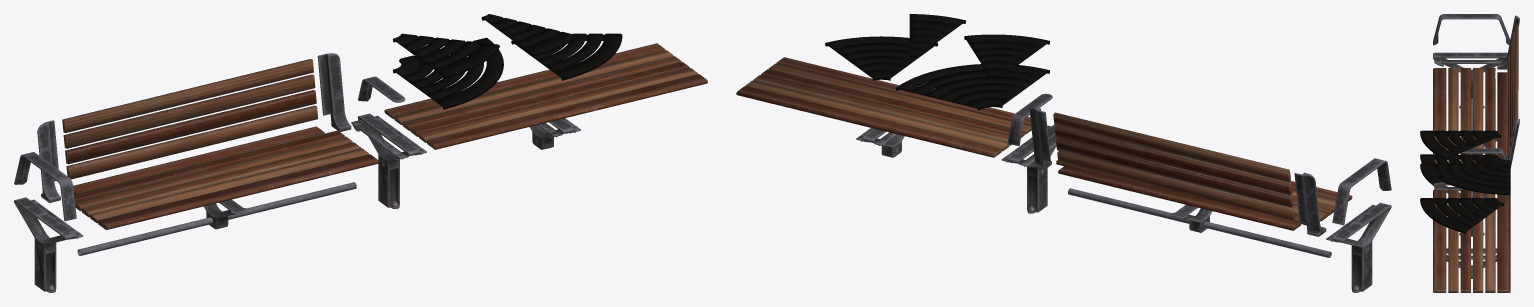
File: modular_street_seating_joined.glb
The picture shows the model from 3 angles, left to right: view 1: azimuth 30°, elevation 25°; view 2: azimuth 150°, elevation 25°; view 3: azimuth 270°, elevation 25°; orthographic projection. The views are drawn at different scales.
Visible parts, largest first — view 1: ConsolidatedMesh; view 2: ConsolidatedMesh; view 3: ConsolidatedMesh.
Part boxes in pixels (x1,y1,x2,y2): ConsolidatedMesh: (14, 14, 707, 292); ConsolidatedMesh: (736, 14, 1391, 292); ConsolidatedMesh: (1420, 14, 1519, 292).
Bounding box in the file's own units: 4.34 × 0.95 × 0.7705.
Materials: 4 (4 with a texture image).
